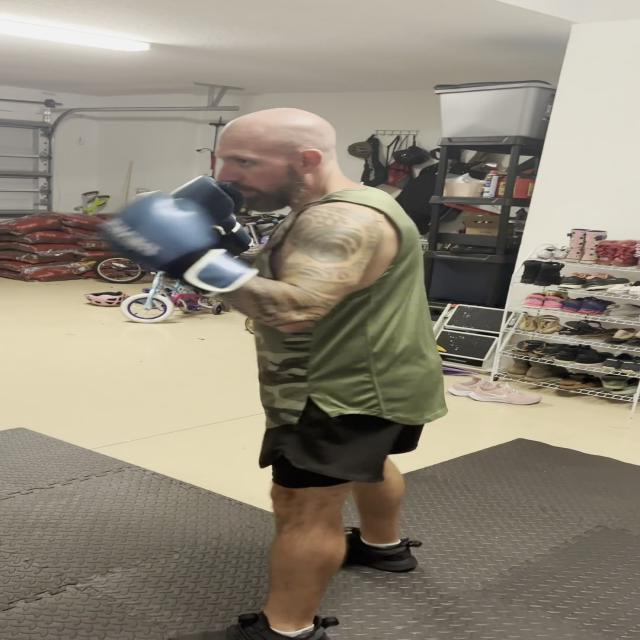no punch: (90, 108, 402, 326)
